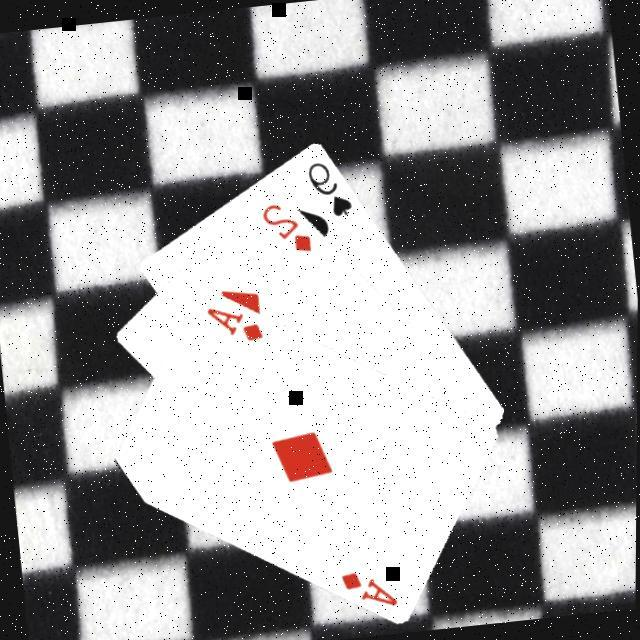2D: (255, 197, 314, 260)
9S: (300, 156, 354, 223)
AD: (335, 563, 400, 615), (200, 299, 265, 349)
